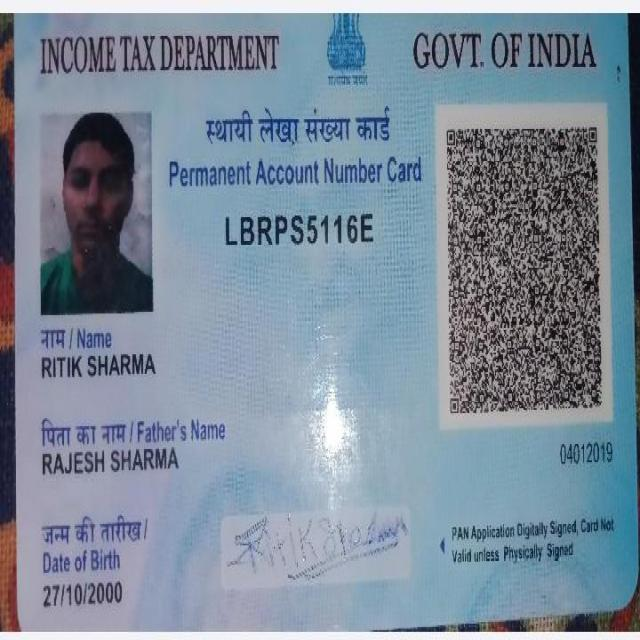pan_card: (18, 13, 633, 624)
